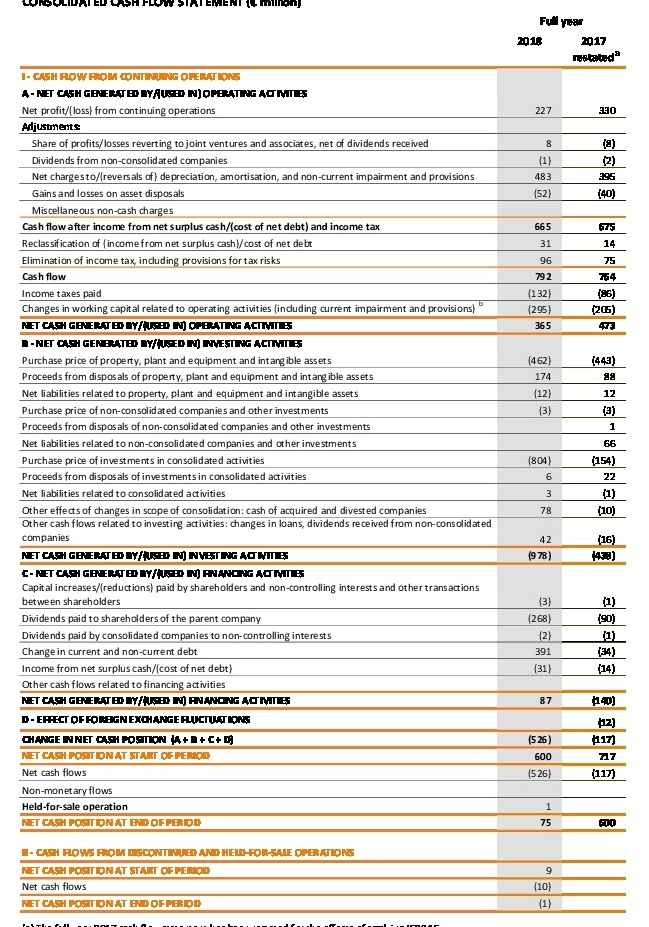table: (0, 0, 649, 927)
